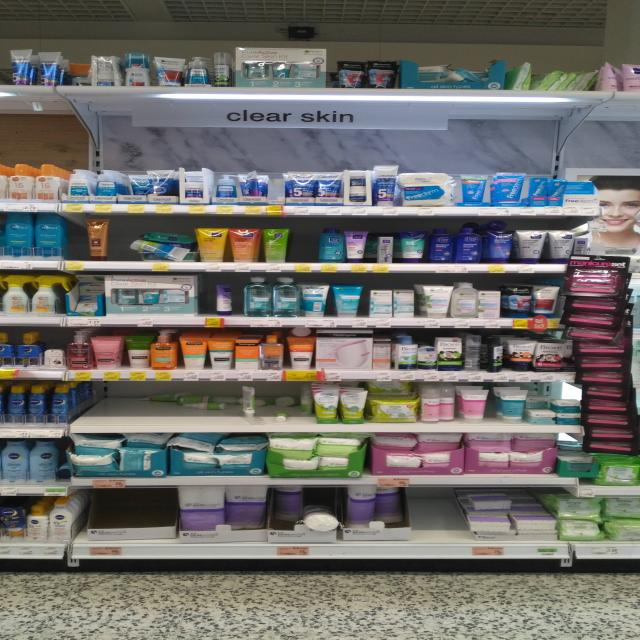unorganised: (139, 383, 300, 421), (128, 222, 197, 266), (512, 61, 597, 95), (348, 485, 409, 526), (226, 485, 265, 528), (65, 449, 120, 477), (596, 59, 640, 92), (83, 215, 110, 261), (422, 62, 482, 82), (276, 485, 303, 528), (301, 505, 339, 535), (236, 171, 267, 201), (121, 449, 161, 472), (212, 280, 236, 317), (49, 385, 71, 424), (470, 493, 511, 511), (486, 339, 506, 374), (440, 386, 455, 424), (70, 61, 90, 87), (126, 173, 149, 195)
